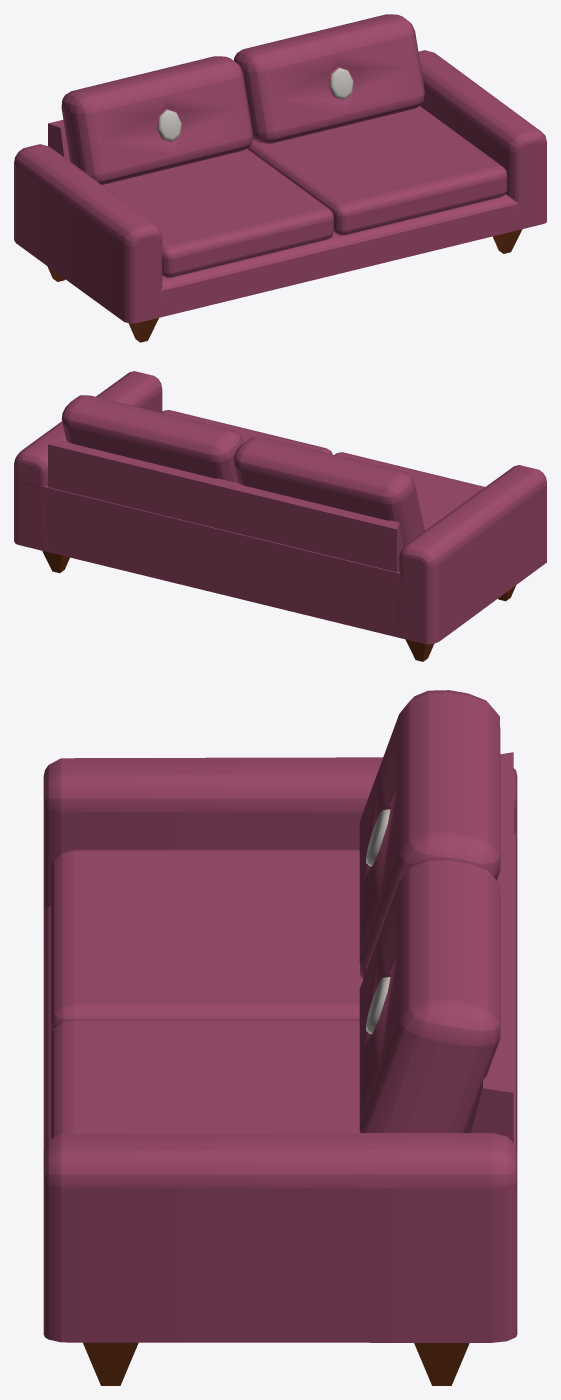
The model's file is sofa new 1.fbx.
3 views of the same model, one above another, from view 1: azimuth 30°, elevation 25°; view 2: azimuth 150°, elevation 25°; view 3: azimuth 270°, elevation 25° (orthographic). The views are drawn at different scales.
Parts seen in each view (by area): view 1: Cube.011; view 2: Cube.011; view 3: Cube.011.
Part boxes in pixels (box(x1,y1,x2,y2)): Cube.011: box(14, 14, 546, 342); Cube.011: box(14, 371, 546, 661); Cube.011: box(43, 690, 517, 1385).
Size of the model in its own units: 200 by 80.81 by 96.89.
